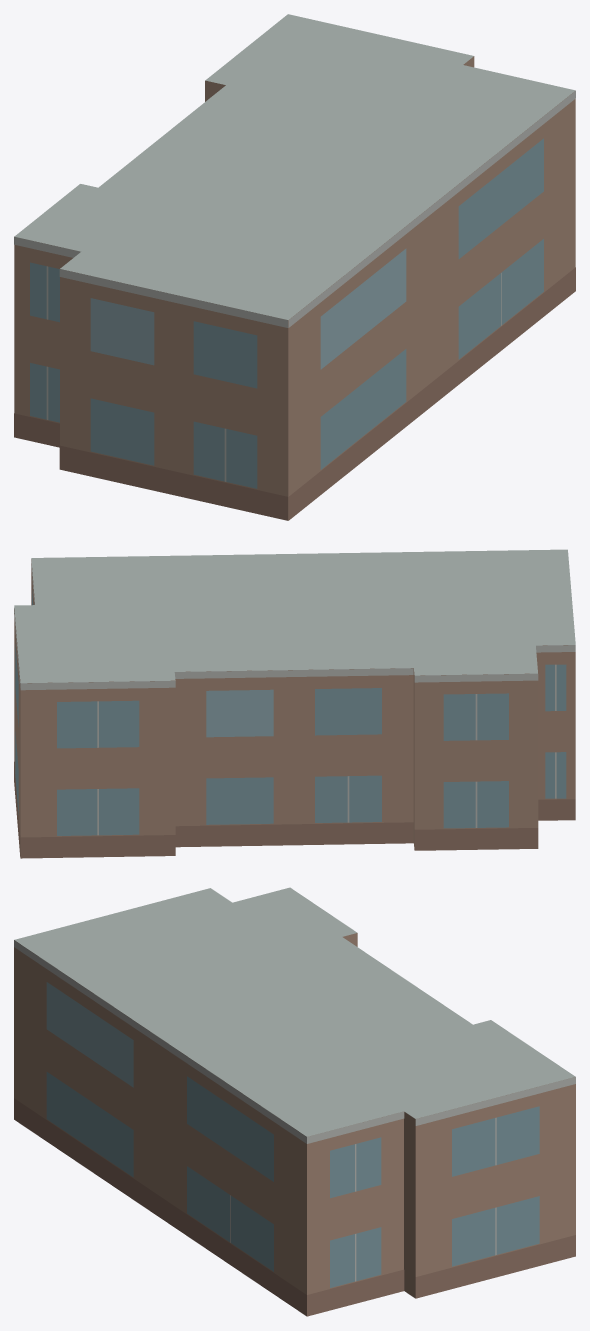
Rendered from survey-upis-32780344.glb.
3 views of the same model, one above another, from view 1: azimuth 30°, elevation 25°; view 2: azimuth 150°, elevation 25°; view 3: azimuth 270°, elevation 25° (orthographic). The views are drawn at different scales.
Parts seen in each view (by area): view 1: survey-upis-32780344.tmp; view 2: survey-upis-32780344.tmp; view 3: survey-upis-32780344.tmp.
Part boxes in pixels (bbox=[...]): survey-upis-32780344.tmp: bbox=[14, 14, 575, 520]; survey-upis-32780344.tmp: bbox=[14, 549, 575, 858]; survey-upis-32780344.tmp: bbox=[14, 887, 575, 1316].
Bounding box in the file's own units: 18.18 × 6.1 × 17.3.
